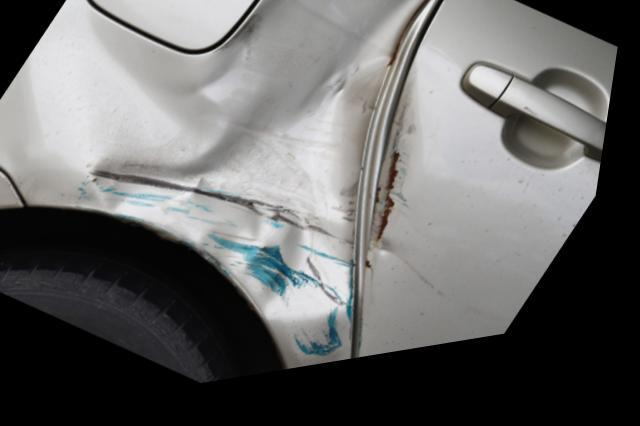dent: (34, 0, 445, 329)
scratch: (376, 128, 419, 266), (305, 320, 366, 372)
